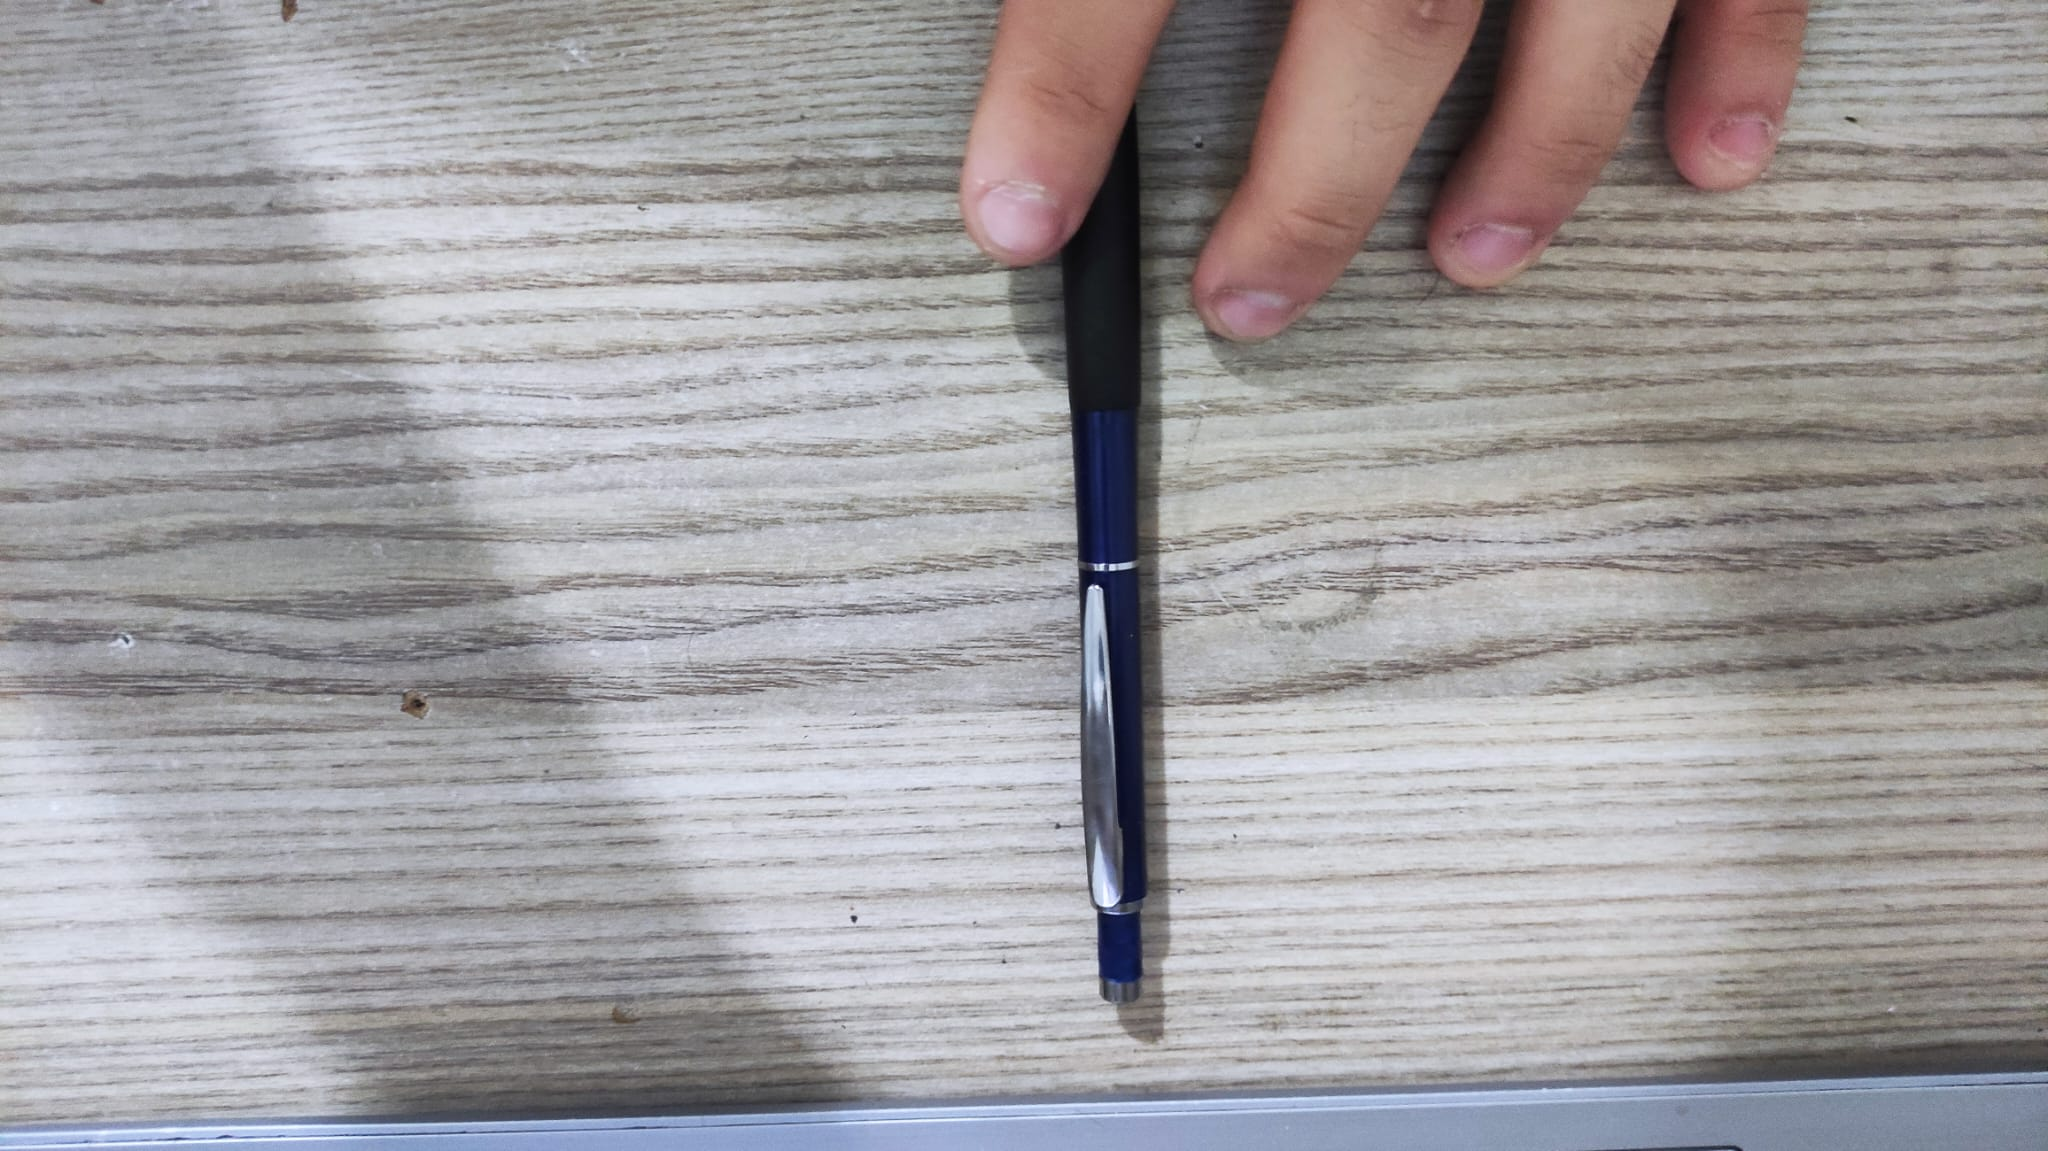kalem: (1066, 73, 1145, 1012)
